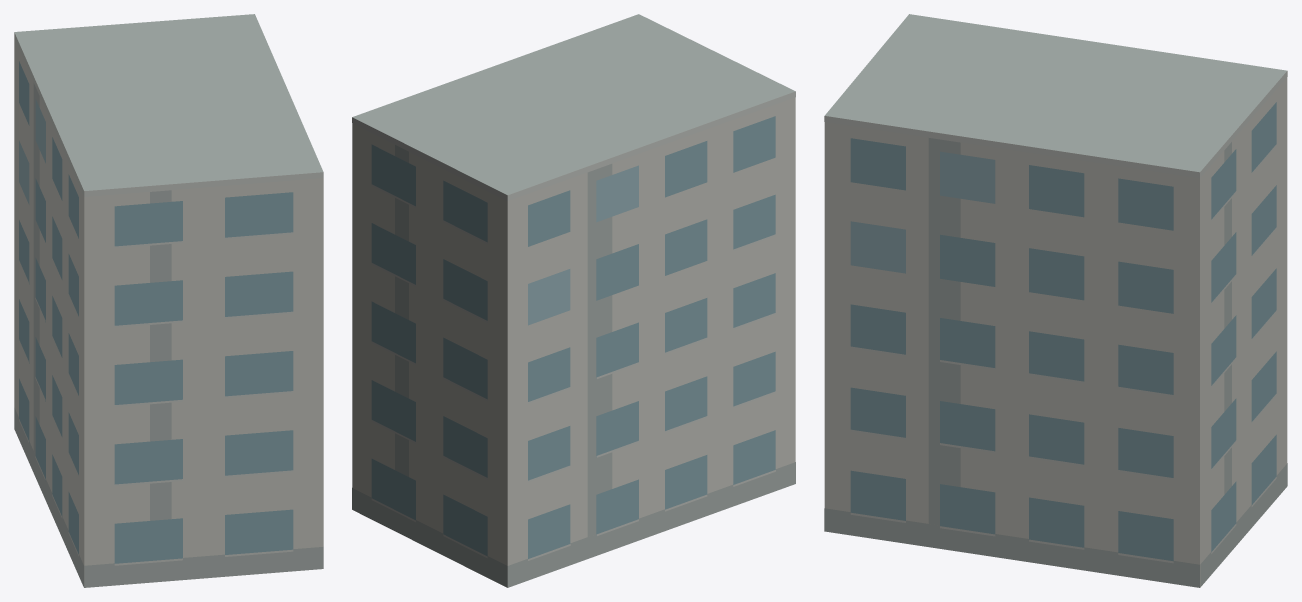
The model's file is survey-upis-32929598.glb.
3 views of the same model, side by side, from view 1: azimuth 30°, elevation 25°; view 2: azimuth 150°, elevation 25°; view 3: azimuth 270°, elevation 25° (orthographic). The views are drawn at different scales.
Visible parts, largest first — view 1: survey-upis-32929598.tmp; view 2: survey-upis-32929598.tmp; view 3: survey-upis-32929598.tmp.
Boxes of the visible parts, left/top/right/bottom form: survey-upis-32929598.tmp: left=14, top=14, right=323, bottom=587; survey-upis-32929598.tmp: left=352, top=14, right=795, bottom=587; survey-upis-32929598.tmp: left=824, top=14, right=1287, bottom=587.
Bounding box in the file's own units: 13.12 × 16.05 × 16.21.
